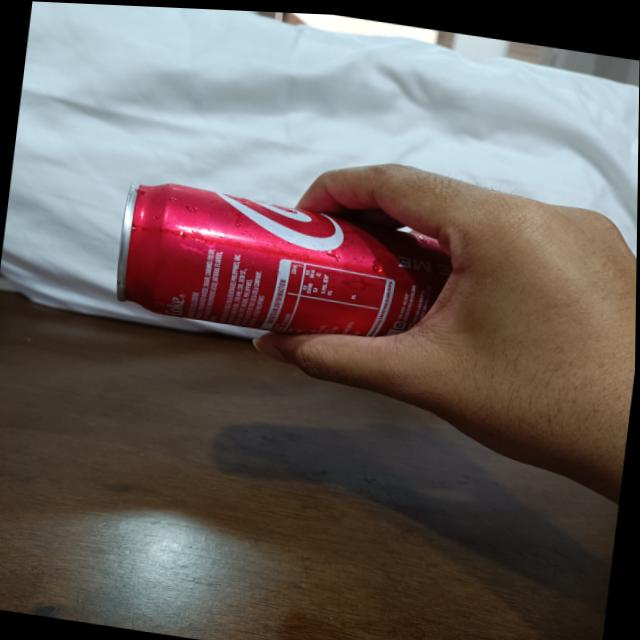coke: (105, 170, 529, 369)
